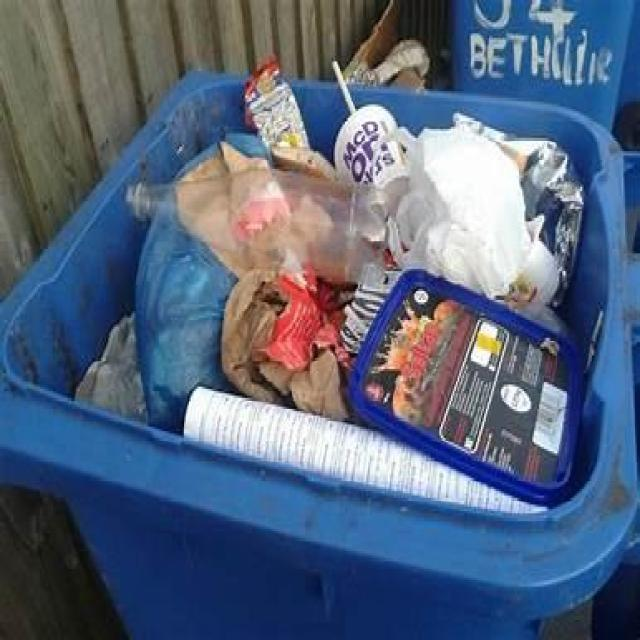Garbage: (78, 57, 584, 512)
Plastic_Bag: (135, 201, 238, 431)
Plastic_Container: (348, 266, 582, 505)
Plastic_Straw: (332, 59, 356, 117)
Plastic_bottle: (126, 167, 391, 290)
Plastic_wraper: (454, 114, 584, 306), (264, 270, 344, 373)
Tetrapack: (245, 55, 309, 147)
